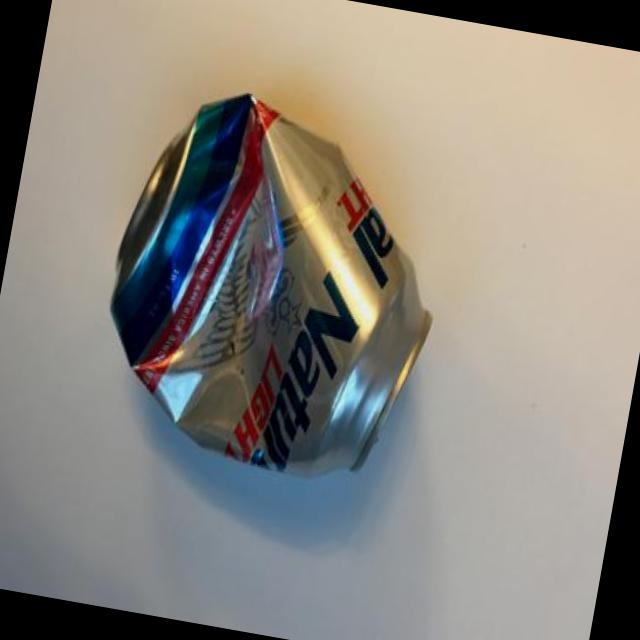nhom: (109, 90, 431, 479)
